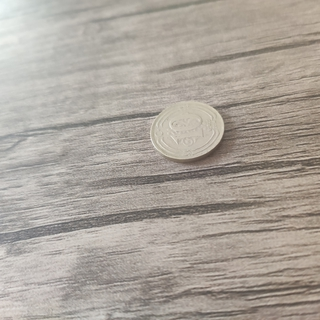10KURUS: (146, 98, 226, 162)
